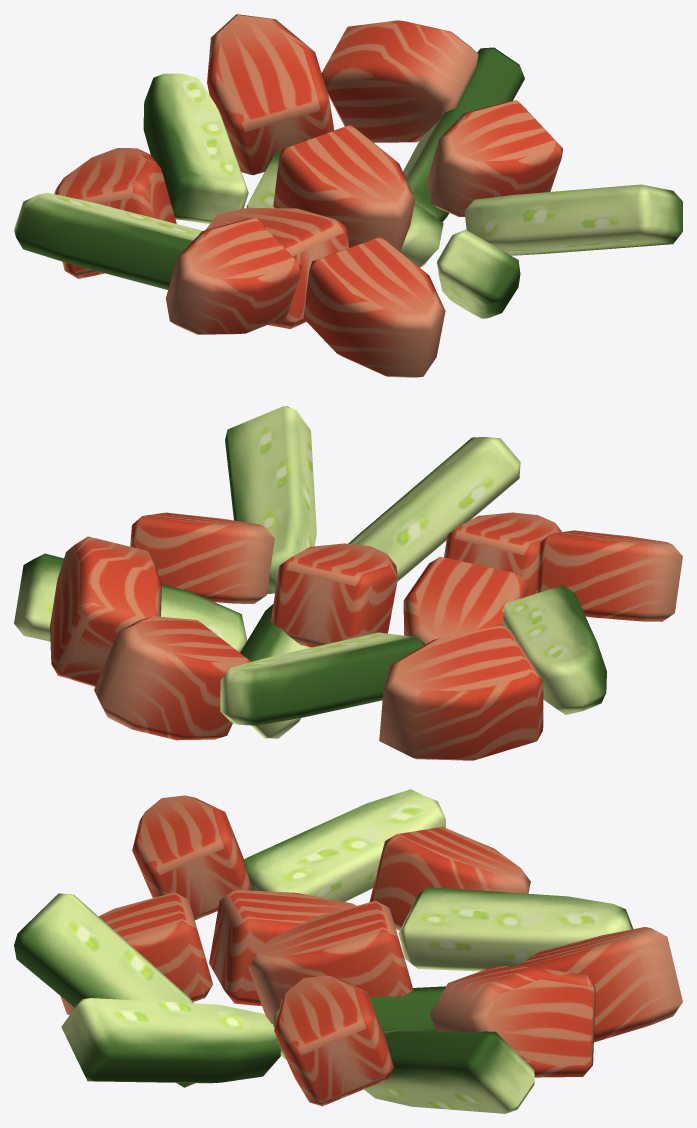
File: m_plated_fish_cucumber_01.fbx
3 views of the same model, one above another, from view 1: azimuth 30°, elevation 25°; view 2: azimuth 150°, elevation 25°; view 3: azimuth 270°, elevation 25° (orthographic). The views are drawn at different scales.
Visible parts, largest first — view 1: m_plated_fish_cucumber_01_1, m_plated_fish_cucumber_01_0; view 2: m_plated_fish_cucumber_01_1, m_plated_fish_cucumber_01_0; view 3: m_plated_fish_cucumber_01_1, m_plated_fish_cucumber_01_0.
Part boxes in pixels (bbox=[...]): m_plated_fish_cucumber_01_1: bbox=[54, 14, 562, 377]; m_plated_fish_cucumber_01_0: bbox=[14, 47, 682, 318]; m_plated_fish_cucumber_01_1: bbox=[50, 512, 682, 760]; m_plated_fish_cucumber_01_0: bbox=[14, 406, 606, 738]; m_plated_fish_cucumber_01_1: bbox=[60, 795, 682, 1106]; m_plated_fish_cucumber_01_0: bbox=[14, 789, 633, 1113].
Bounding box in the file's own units: 0.8881 × 0.2494 × 0.9267.
Materials: 2 (2 with a texture image).
